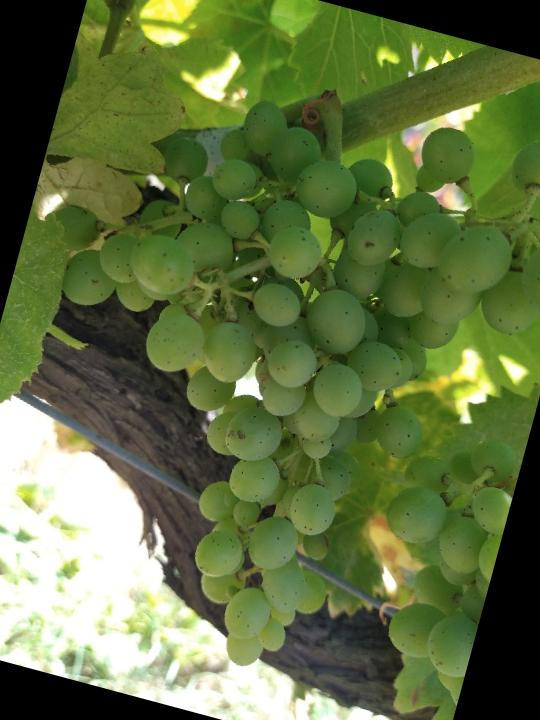grape: (0, 18, 540, 720)
